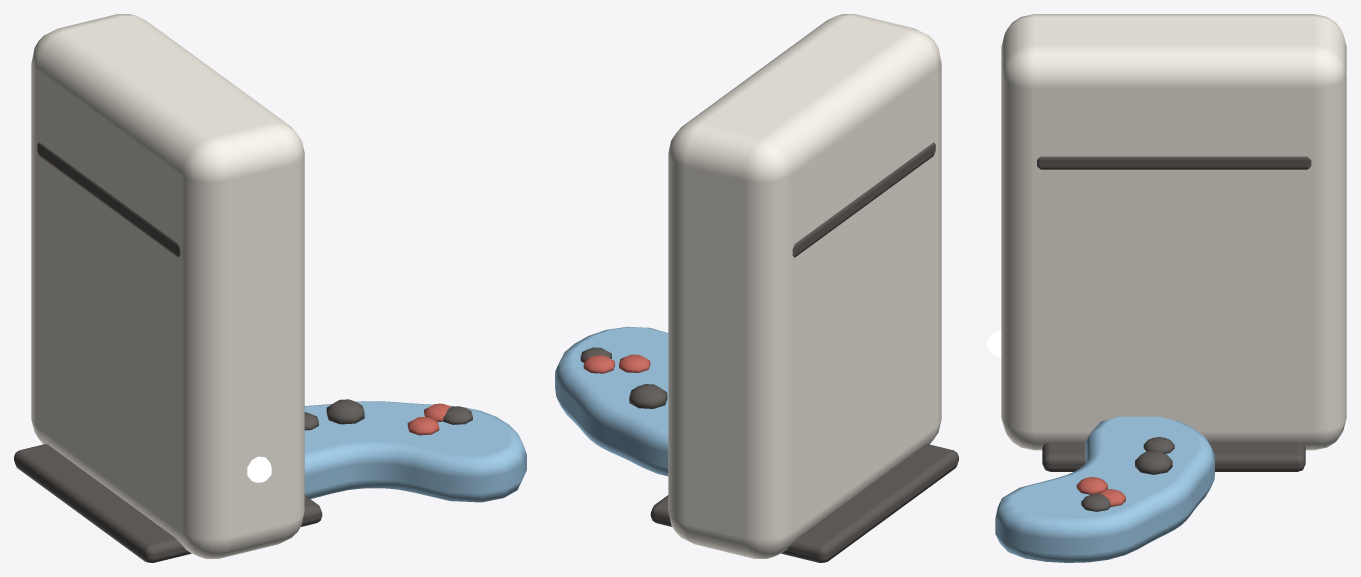
File: game_console_set.glb
The picture shows the model from 3 angles, left to right: view 1: azimuth 30°, elevation 25°; view 2: azimuth 150°, elevation 25°; view 3: azimuth 270°, elevation 25°; orthographic projection. The views are drawn at different scales.
Visible parts, largest first — view 1: game_console_set_mesh; view 2: game_console_set_mesh; view 3: game_console_set_mesh.
Boxes of the visible parts, x1=… form: game_console_set_mesh: x1=14, y1=14, x2=526, y2=562; game_console_set_mesh: x1=555, y1=14, x2=958, y2=562; game_console_set_mesh: x1=987, y1=14, x2=1346, y2=562.
Size of the model in its own units: 0.2556 by 0.27 by 0.2186.
